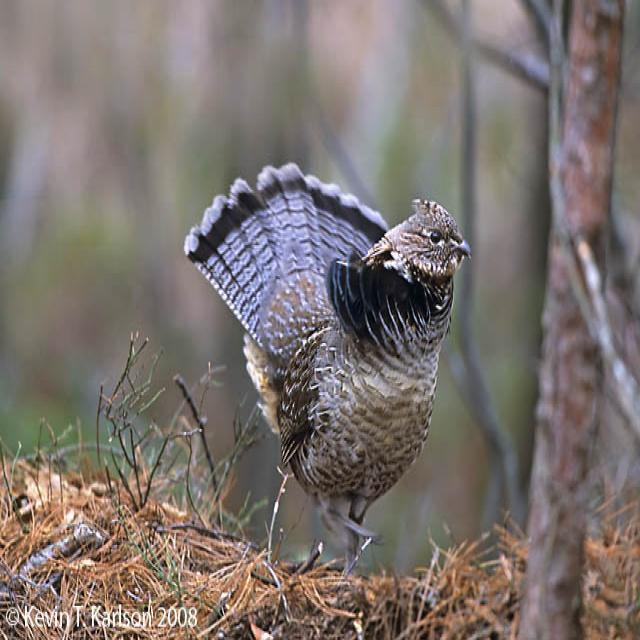bird: (182, 159, 473, 582)
